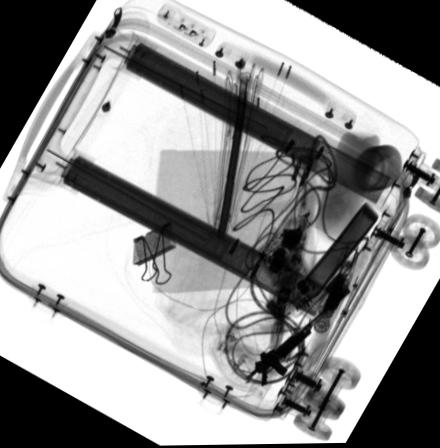Gun: (242, 286, 350, 387)
